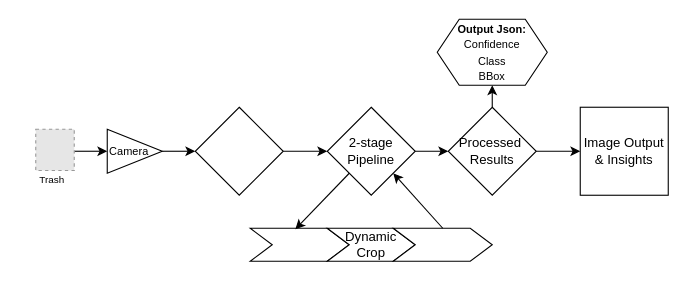
Image size: 688x281. Some labels were removed from this diagram. Grey dashed boxes stand in for pictures. The shapes that lost their labels are listed below. From the top down, each one's centre as x and y in pixels, then its label:
At point (238, 150): "Inference API".
At point (299, 244): "Obj-Det RFDetr".
At point (442, 244): "Object Classification".
